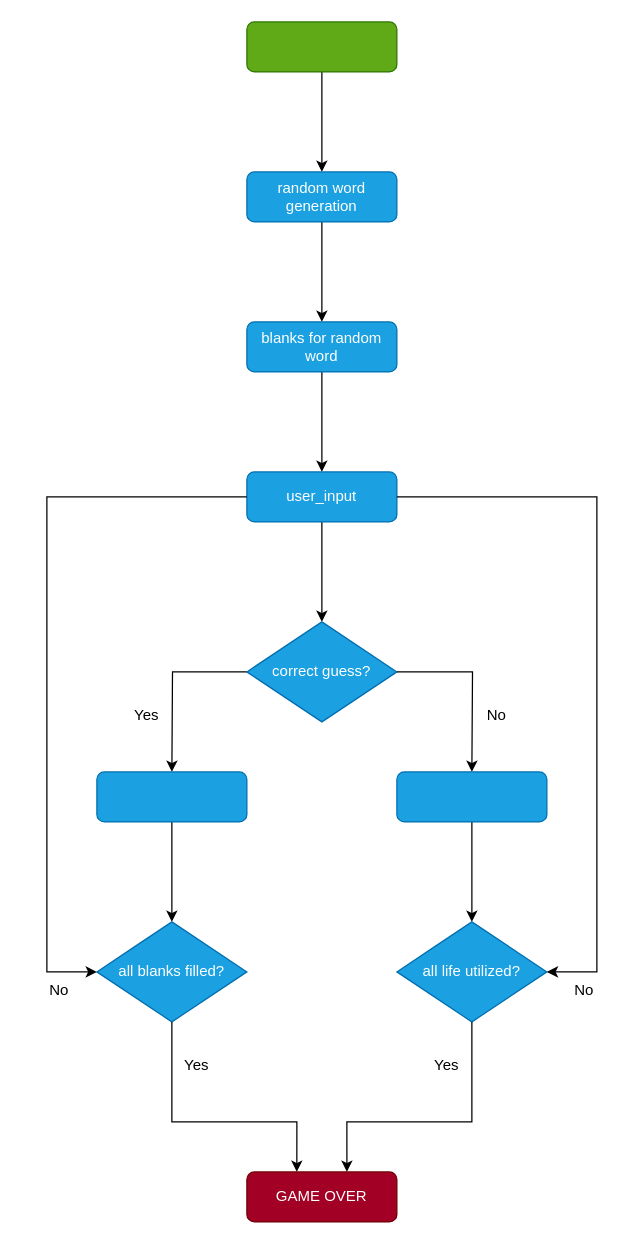
Image size: 643x1244. Some labels were removed from this diagram. Here are the shapes that lost their labels. From the top down, the centre of each, then its label:
point 321,46: START
point 171,796: replace the blank with that letter
point 471,796: lose one part
